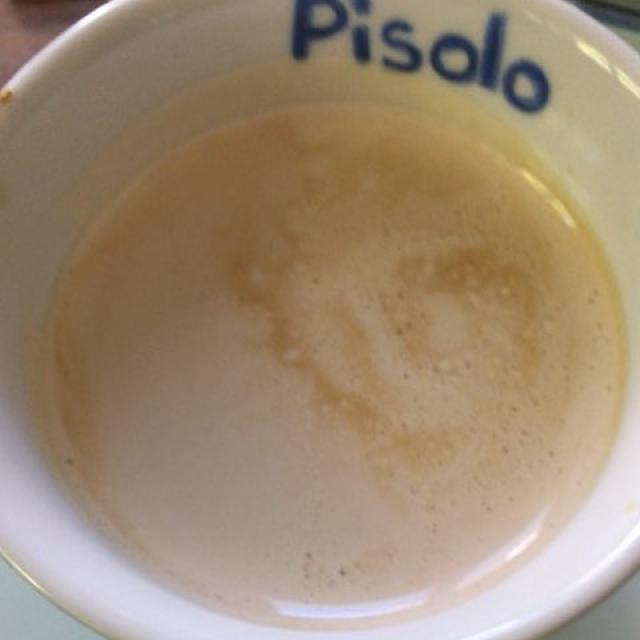white-coffee-with-caffeine: (45, 111, 614, 603)
